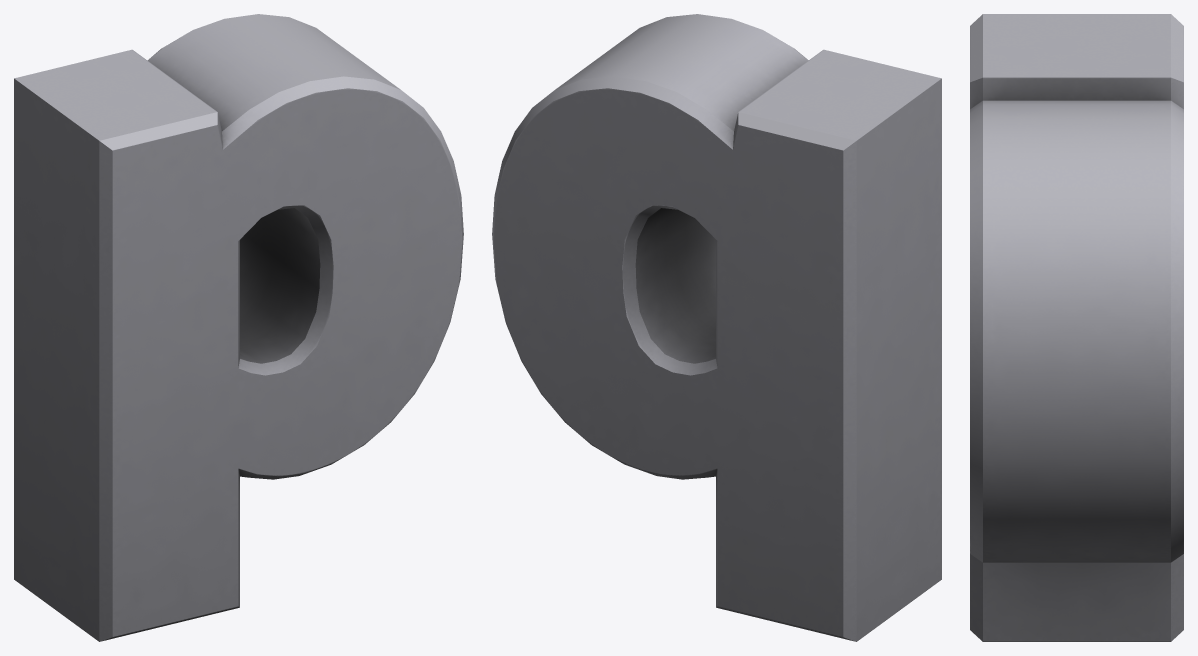
The model's file is p_lowc_static.fbx.
The picture shows the model from 3 angles, left to right: view 1: azimuth 30°, elevation 25°; view 2: azimuth 150°, elevation 25°; view 3: azimuth 270°, elevation 25°; orthographic projection. The views are drawn at different scales.
Parts seen in each view (by area): view 1: p_lowc_static; view 2: p_lowc_static; view 3: p_lowc_static.
Part boxes in pixels (bbox=[...]): p_lowc_static: bbox=[14, 14, 463, 641]; p_lowc_static: bbox=[492, 14, 941, 641]; p_lowc_static: bbox=[970, 14, 1183, 641].
Size of the model in its own units: 71.57 by 95.56 by 33.
